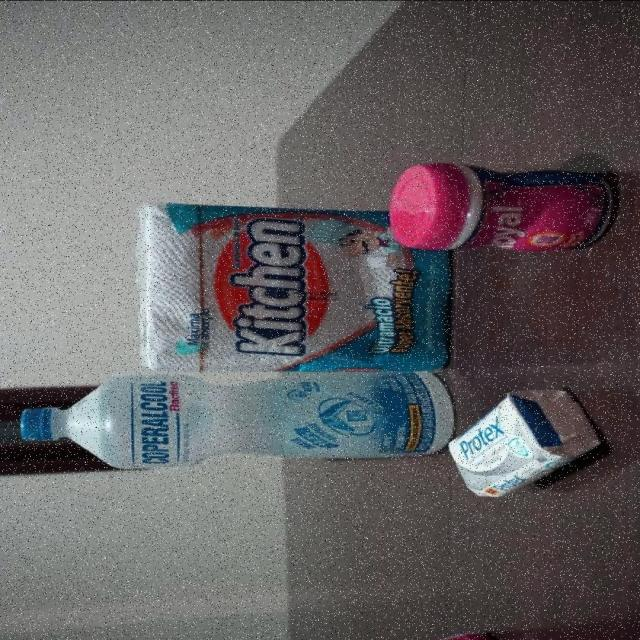AlcoholBottle: (22, 367, 457, 472)
ChocolateMilk: (207, 626, 508, 640)
Napkin: (129, 204, 461, 372)
Soap: (439, 379, 597, 500)
Yeast: (390, 160, 616, 250)
